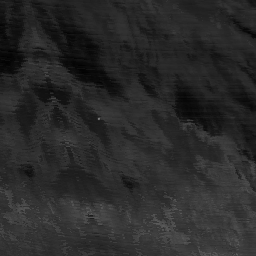Target: (96, 116, 101, 122)
